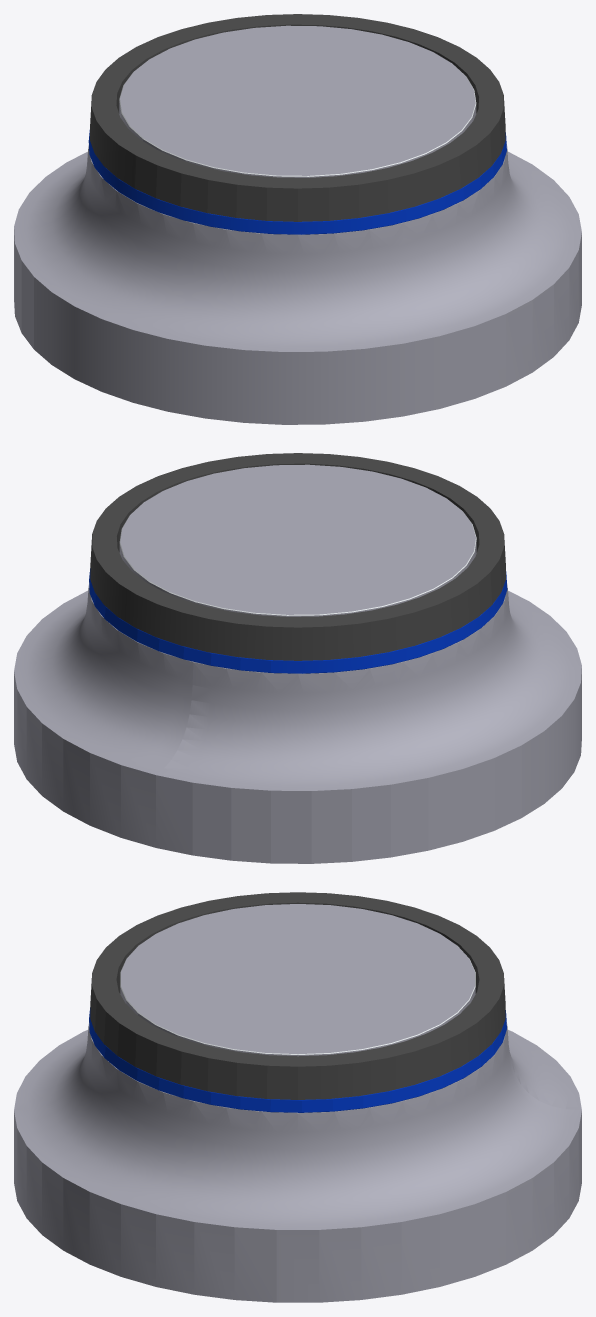
3 views of the same model, one above another, from view 1: azimuth 30°, elevation 25°; view 2: azimuth 150°, elevation 25°; view 3: azimuth 270°, elevation 25° (orthographic).
Parts seen in each view (by area): view 1: mesh; view 2: mesh; view 3: mesh.
Part boxes in pixels (x1,y1,x2,y2): mesh: (14, 14, 581, 424); mesh: (14, 453, 581, 863); mesh: (14, 892, 581, 1302).
Bounding box in the file's own units: 0.162 × 0.1622 × 0.0643.
